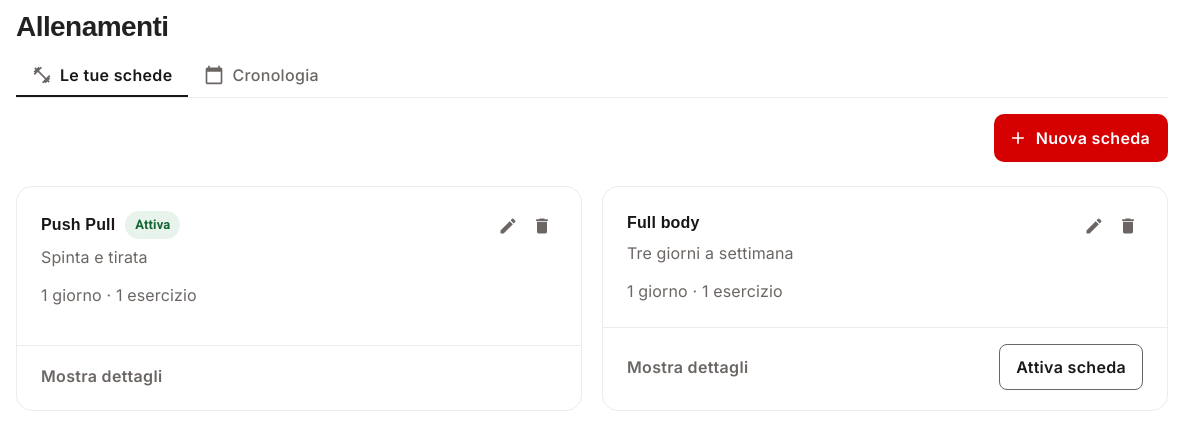
Test: shell di Allenamenti › il titolo della tab non si ripete sotto i tab, né per le schede né per la cronologia
Check: the text "Push Pull" is shown, box 41,213 -> 115,237
Check: the number of tabs "Le tue schede" is 1, box 16,54 -> 188,98
Click the tab "Cronologia": (262, 76) 188,54 -> 335,98
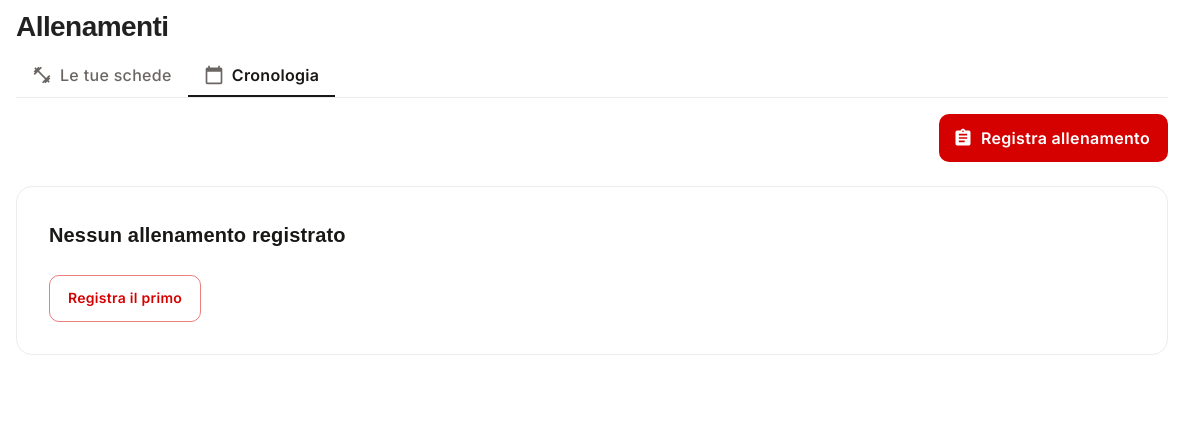
Check: the number of tabs "Cronologia" is 1, box 188,54 -> 335,98
Check: the heading "Nessun allenamento registrato" is shown, box 49,224 -> 346,246
